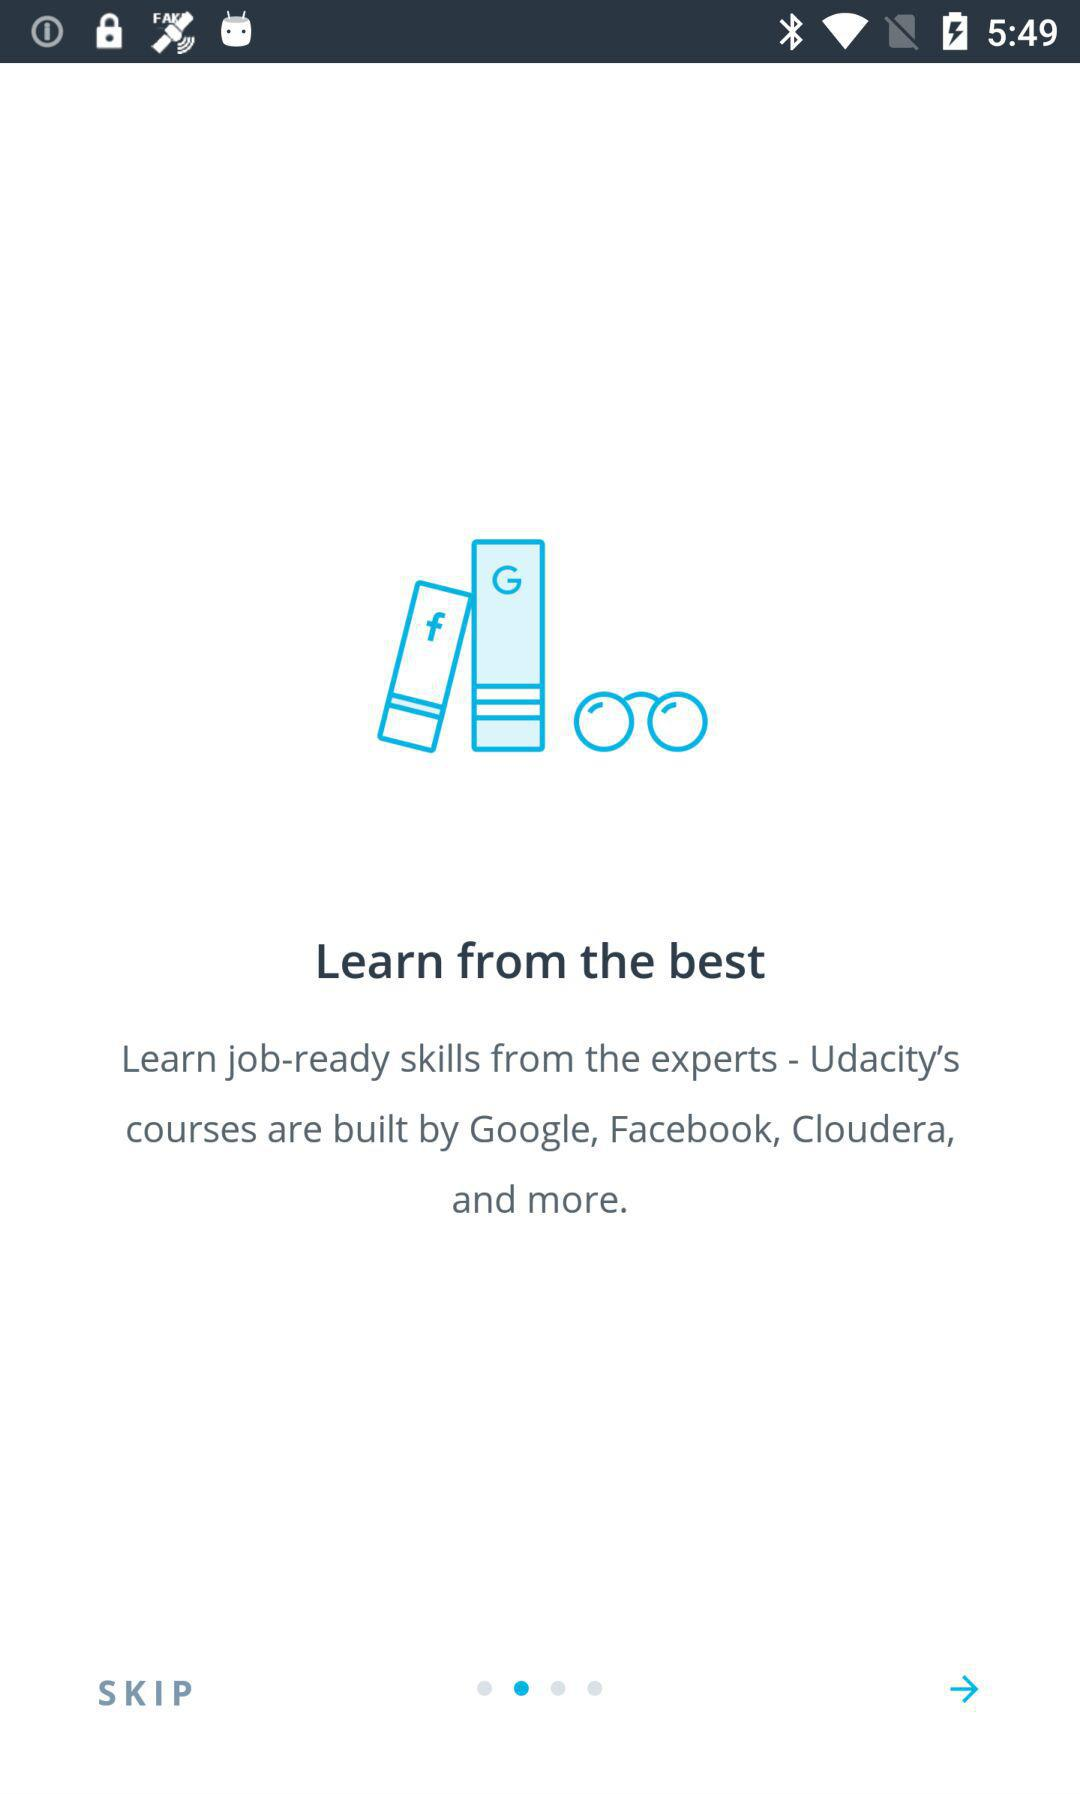Icon: (949, 1674, 980, 1704)
Image: (375, 538, 710, 755)
PageIndicator: (477, 1677, 605, 1698)
Text: (123, 1042, 961, 1215), (318, 941, 767, 982), (97, 1679, 193, 1708)
UpperTaskBar: (1, 1, 1080, 64)
